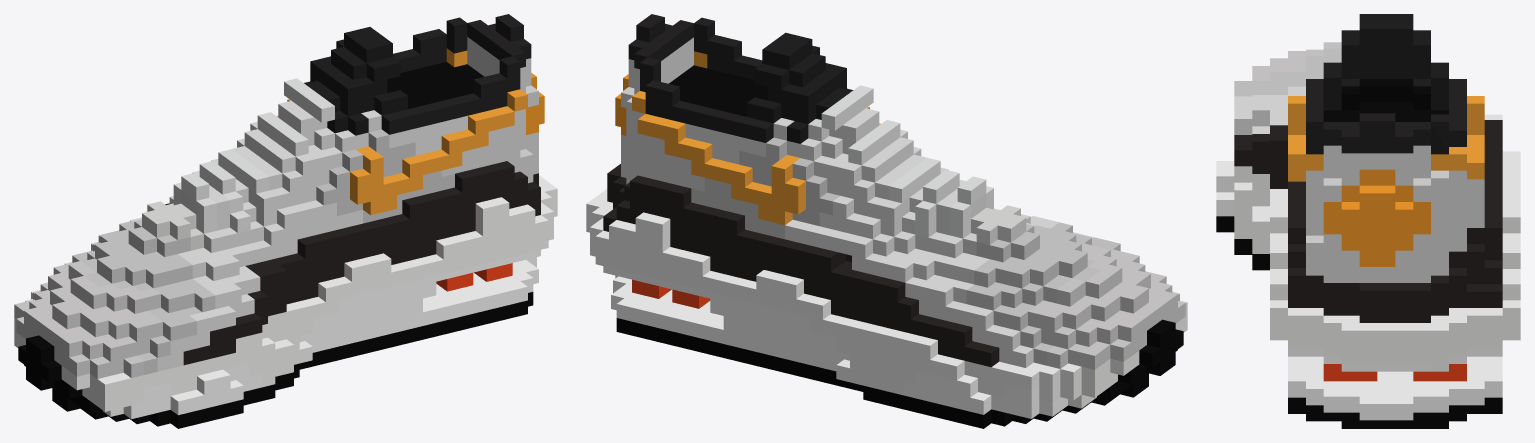
File: Weird Yello.fbx
3 views of the same model, side by side, from view 1: azimuth 30°, elevation 25°; view 2: azimuth 150°, elevation 25°; view 3: azimuth 270°, elevation 25° (orthographic). The views are drawn at different scales.
Visible parts, largest first — view 1: Untitled; view 2: Untitled; view 3: Untitled.
Part boxes in pixels (bbox=[...]): Untitled: bbox=[14, 14, 557, 428]; Untitled: bbox=[586, 14, 1187, 428]; Untitled: bbox=[1216, 14, 1520, 428].
Bounding box in the file's own units: 400 × 200 × 170.
